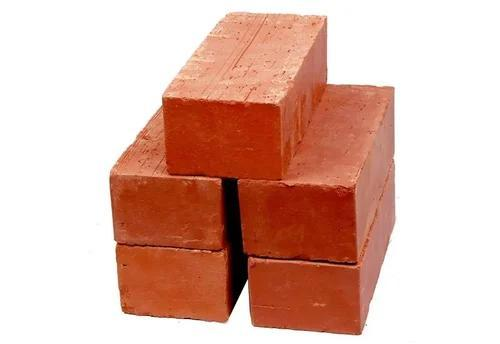brick: (236, 178, 360, 265), (163, 95, 286, 176), (107, 172, 227, 250), (115, 245, 230, 322), (249, 261, 365, 335)
